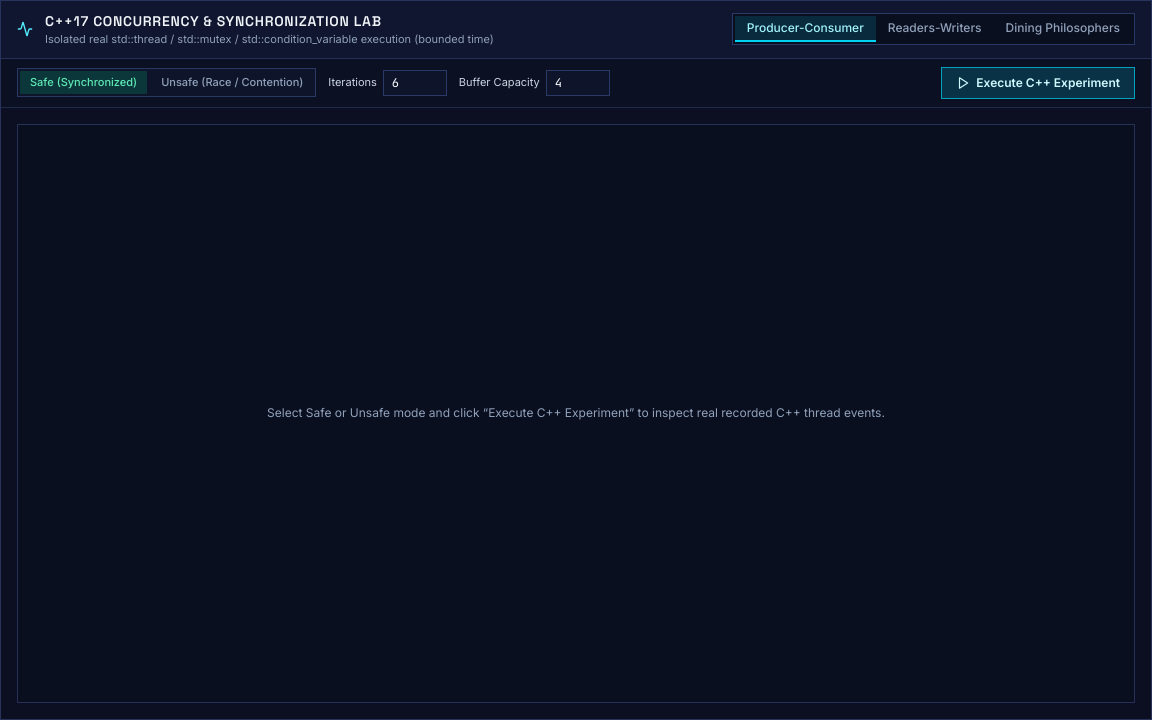
Phase 6F CPU Scheduling Lab & 6G Sync Lab › executes C++ SyncLab and plays back Producer-Consumer & Dining Philosophers events
Click the button "Execute C++ Experiment" at (1038, 82), box [941, 66, 1135, 98]
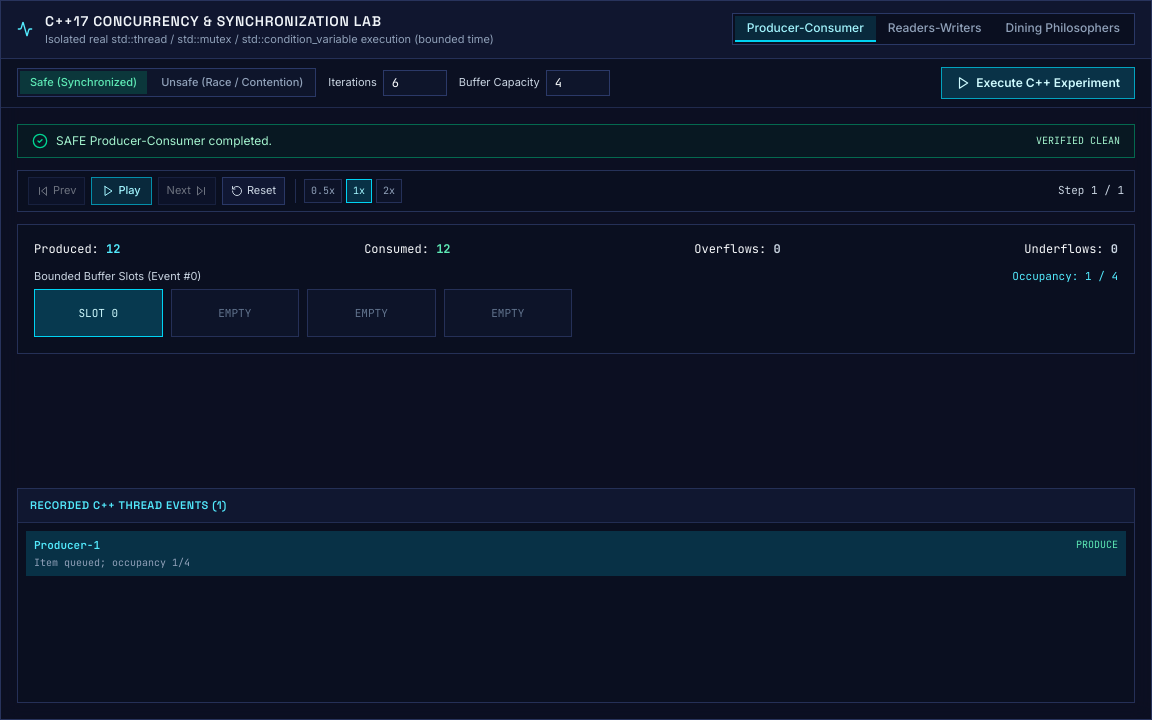
Result: the text "SAFE Producer-Consumer completed." is shown at [32, 132, 272, 148]
Result: the text "SLOT 0" is shown at [34, 289, 162, 337]
